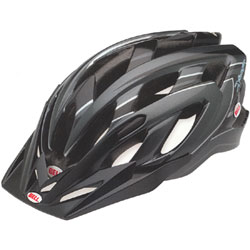helmet: (23, 27, 240, 192)
